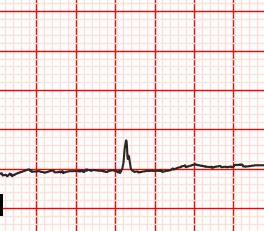Poor R Progression: (119, 138, 135, 177)
